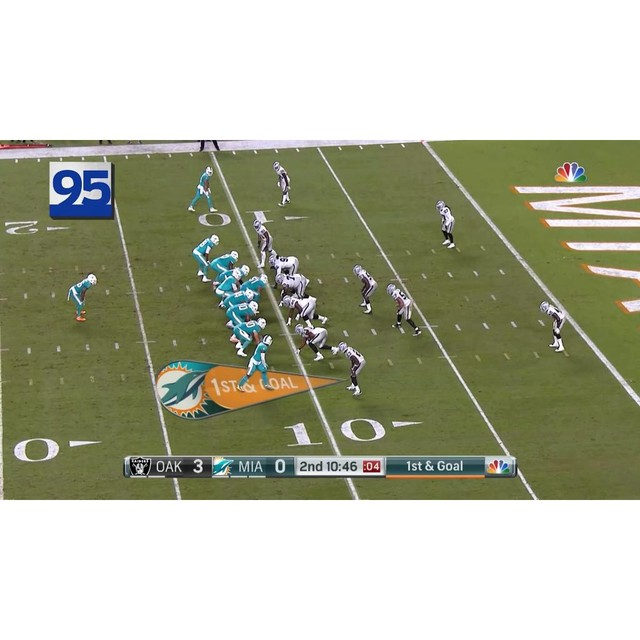american-football-player: (236, 334, 274, 392), (386, 283, 420, 337), (334, 342, 365, 396), (294, 323, 337, 361), (229, 318, 268, 357), (213, 265, 249, 306), (540, 300, 567, 354), (69, 272, 98, 322), (284, 295, 328, 326), (352, 264, 378, 315), (192, 234, 219, 282), (188, 166, 216, 212), (252, 218, 275, 268), (275, 273, 308, 305), (209, 250, 239, 285), (436, 200, 457, 250), (268, 253, 299, 286), (225, 301, 261, 329), (273, 160, 292, 206), (221, 288, 258, 311)
